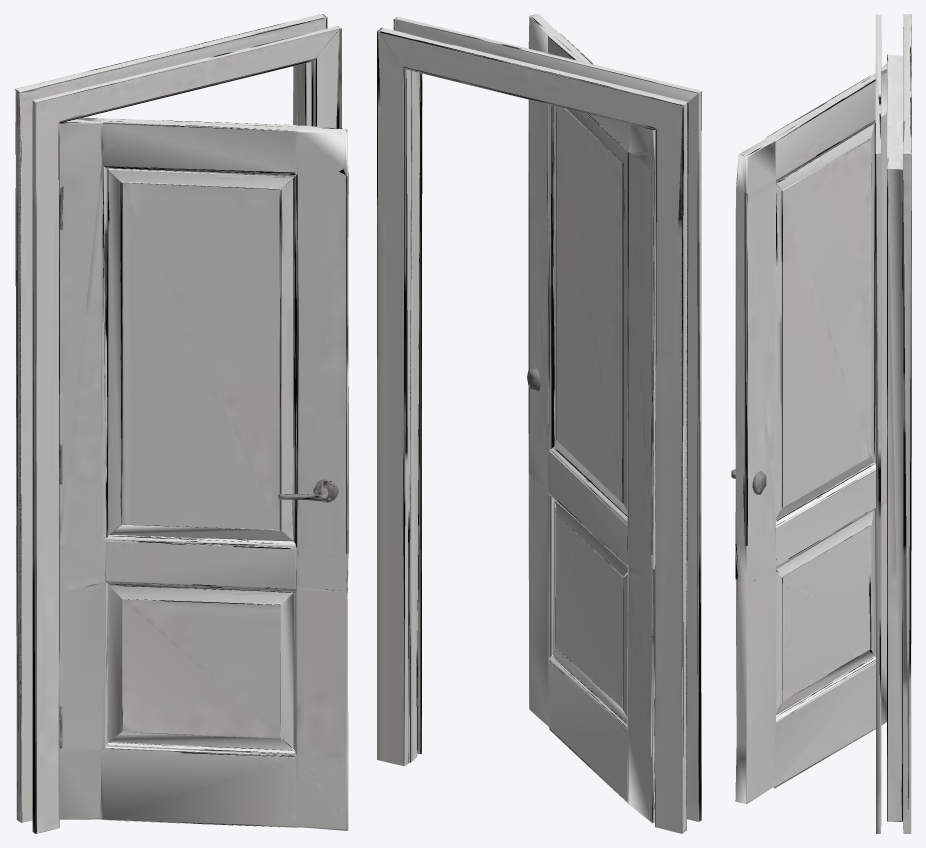
The model's file is mobile.glb.
3 views of the same model, side by side, from view 1: azimuth 30°, elevation 25°; view 2: azimuth 150°, elevation 25°; view 3: azimuth 270°, elevation 25° (orthographic). The views are drawn at different scales.
Parts seen in each view (by area): view 1: bathroomdoor; view 2: bathroomdoor; view 3: bathroomdoor.
Boxes of the visible parts, x1=… form: bathroomdoor: x1=14, y1=14, x2=348, y2=833; bathroomdoor: x1=377, y1=14, x2=702, y2=833; bathroomdoor: x1=731, y1=14, x2=911, y2=833.
Bounding box in the file's own units: 0.9261 × 2.1 × 0.5051.
Materials: 1 (1 with a texture image).
